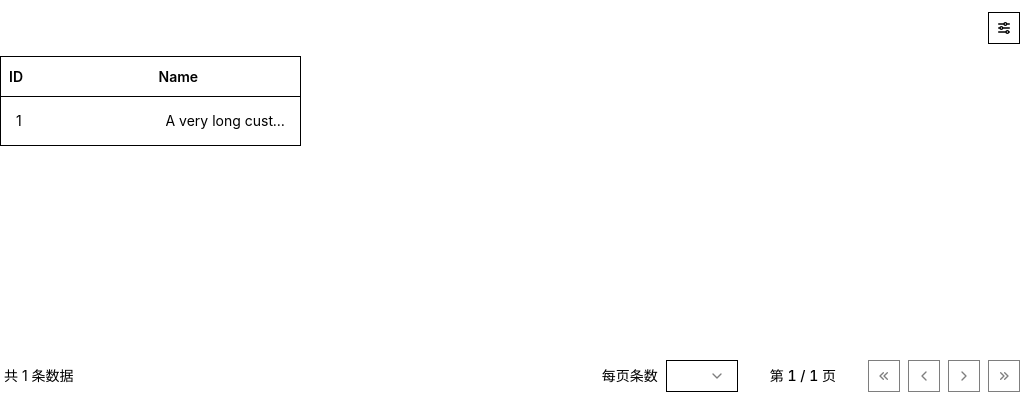
it: DataTable body › shows the shared tooltip on the first hover of overflowing cell text
Hover over the text "A very long customer name" at coordinates (225, 121), box top-left (166, 111), bottom-right (285, 131)
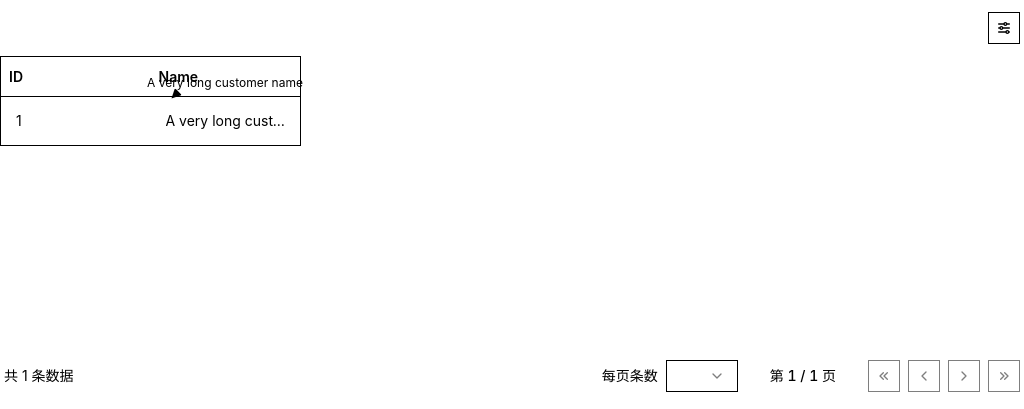
Expected: the tooltip reads "A very long customer name", top-left (147, 75), bottom-right (303, 90)
